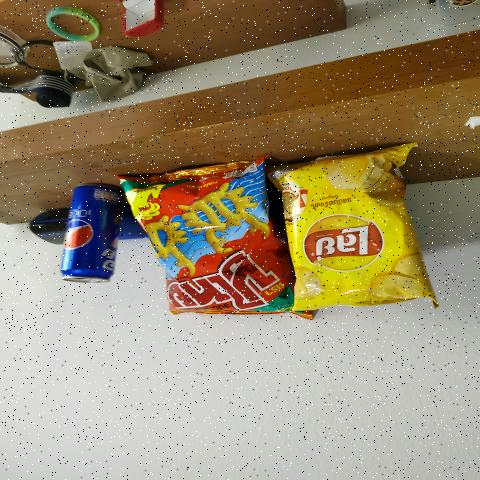pepsi_blue: (63, 176, 117, 293)
